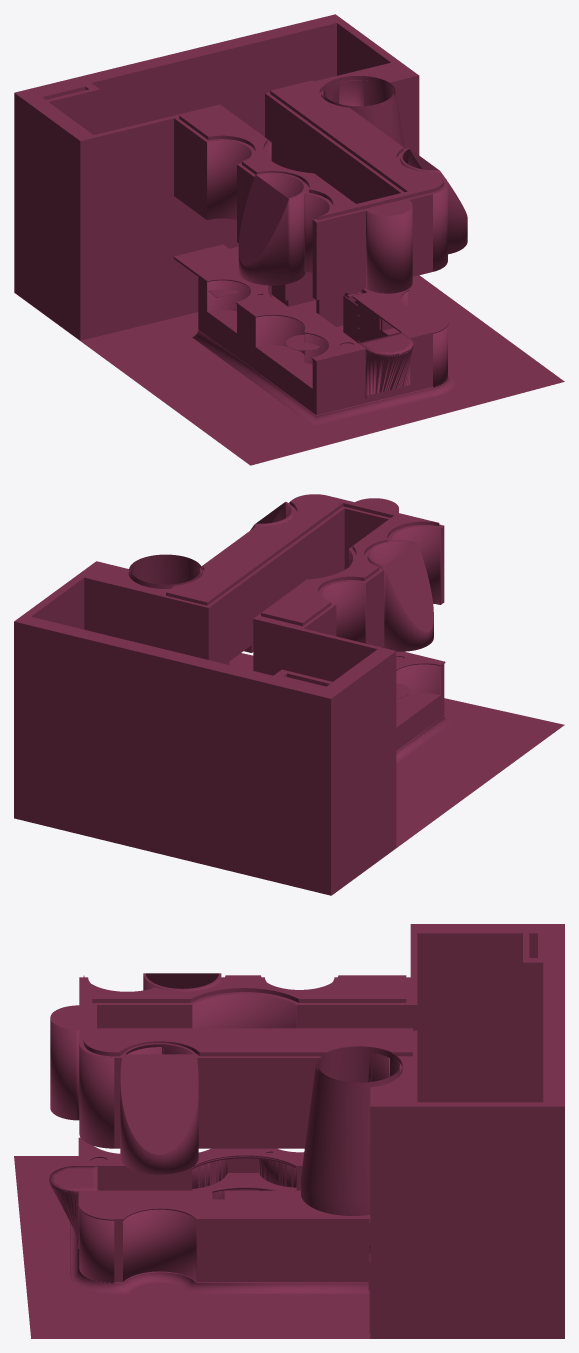
File: asset.glb
3 renders of one model, top to bottom at view 1: azimuth 30°, elevation 25°; view 2: azimuth 150°, elevation 25°; view 3: azimuth 270°, elevation 25°, orthographic. The views are drawn at different scales.
Parts seen in each view (by area): view 1: MC_Structure, G-__556320, Sketchup, G-__556257, G-__556347, G-__556275, G-__556311, G-__556356, G-__556365, G-__556284, G-__556302, G-__556338 (+1 smaller); view 2: MC_Structure, G-__556320, Sketchup, G-__556275, G-__556257, G-__556338, G-__556347, G-__556365, G-__556356, G-__556311, G-__556266; view 3: MC_Structure, G-__556320, Sketchup, G-__556347, G-__556365, G-__556266, G-__556311, G-__556302, G-__556356, G-__556284, G-__556338, G-__556275 (+1 smaller).
Boxes of the visible parts, x1=… form: MC_Structure: x1=14, y1=14, x2=419, y2=340; G-__556320: x1=174, y1=80, x2=447, y2=300; Sketchup: x1=14, y1=200, x2=564, y2=465; G-__556257: x1=94, y1=104, x2=222, y2=336; G-__556347: x1=198, y1=276, x2=447, y2=415; G-__556275: x1=238, y1=172, x2=305, y2=285; G-__556311: x1=173, y1=244, x2=448, y2=362; G-__556356: x1=192, y1=329, x2=455, y2=426; G-__556365: x1=321, y1=76, x2=404, y2=147; G-__556284: x1=358, y1=332, x2=413, y2=398; G-__556302: x1=258, y1=272, x2=399, y2=347; G-__556338: x1=314, y1=62, x2=411, y2=149; MC_Structure: x1=14, y1=561, x2=396, y2=895; G-__556320: x1=161, y1=494, x2=444, y2=664; Sketchup: x1=229, y1=498, x2=564, y2=895; G-__556275: x1=367, y1=540, x2=433, y2=651; G-__556257: x1=253, y1=617, x2=379, y2=681; G-__556338: x1=84, y1=563, x2=169, y2=648; G-__556347: x1=396, y1=664, x2=444, y2=750; G-__556365: x1=128, y1=554, x2=202, y2=588; G-__556356: x1=396, y1=716, x2=453, y2=763; G-__556311: x1=246, y1=651, x2=445, y2=670; G-__556266: x1=250, y1=501, x2=293, y2=530; MC_Structure: x1=370, y1=924, x2=564, y2=1338; G-__556320: x1=79, y1=975, x2=417, y2=1148; Sketchup: x1=14, y1=1005, x2=370, y2=1338; G-__556347: x1=79, y1=1159, x2=369, y2=1290; G-__556365: x1=301, y1=1047, x2=402, y2=1215; G-__556266: x1=120, y1=1043, x2=198, y2=1174; G-__556311: x1=78, y1=1137, x2=370, y2=1220; G-__556302: x1=90, y1=1152, x2=302, y2=1199; G-__556356: x1=70, y1=1223, x2=368, y2=1293; G-__556284: x1=49, y1=1166, x2=97, y2=1248; G-__556338: x1=370, y1=1058, x2=417, y2=1102; G-__556275: x1=143, y1=973, x2=221, y2=991.
Bounding box in the file's own units: 4.98 × 3 × 6.34.
